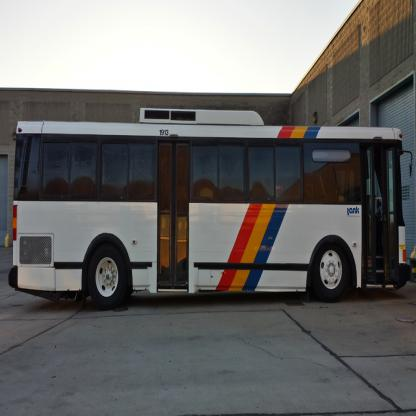Bus: (7, 105, 412, 306)
